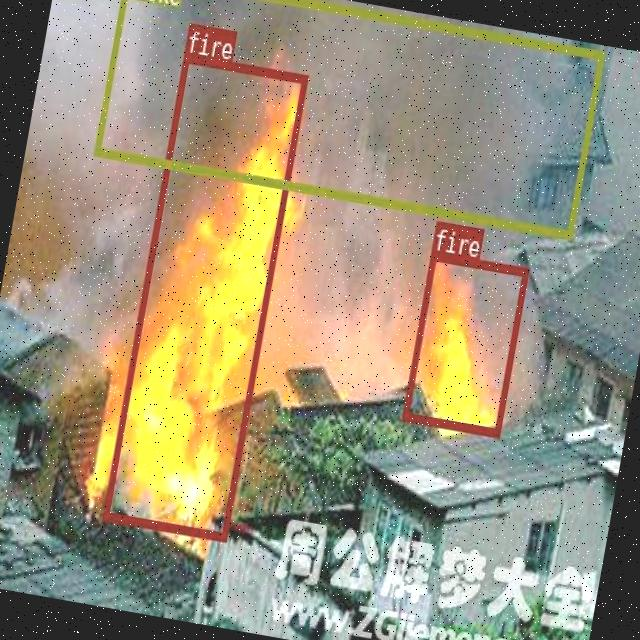fire: (101, 52, 308, 540), (401, 250, 527, 434)
smoke: (93, 0, 603, 236)
